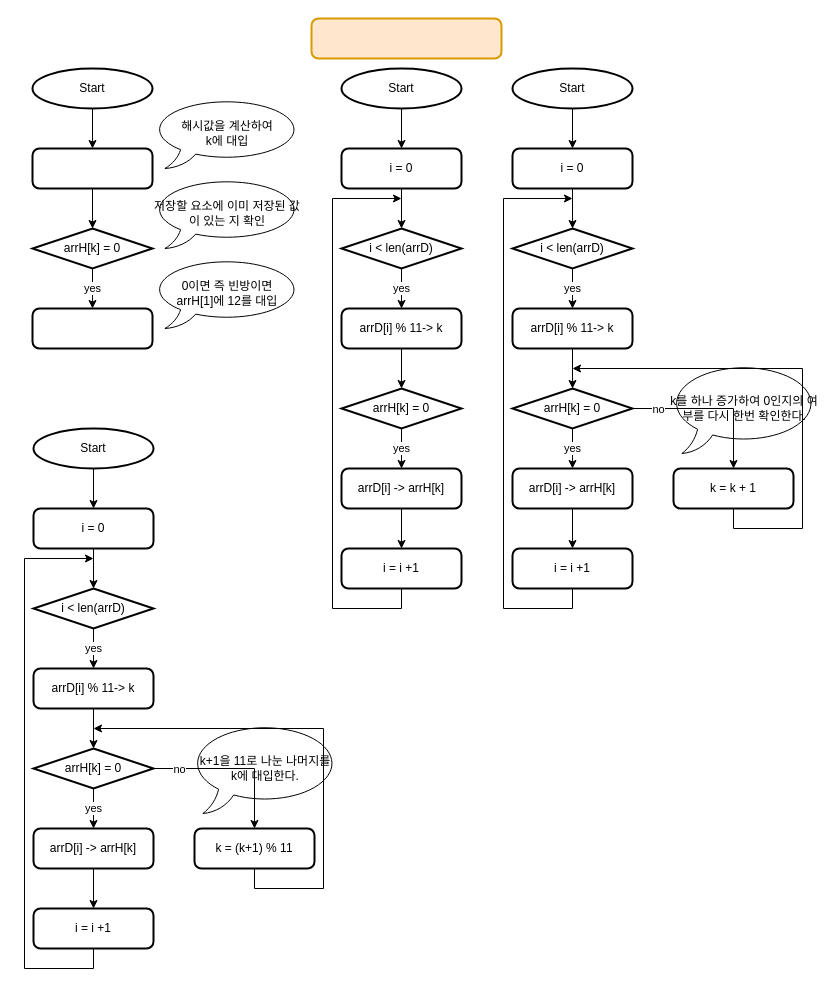
Some shapes in this 837 by 994 pixel diagram are drawn without their labels. The centre of each missing label's shape, as x and y in pixels:
arrD[0] % 11-> k: [92,168]
arrD[0] -> arrH[k]: [92,328]
Hash Search: [406,38]
